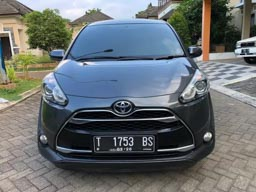plat: (93, 136, 154, 146)
